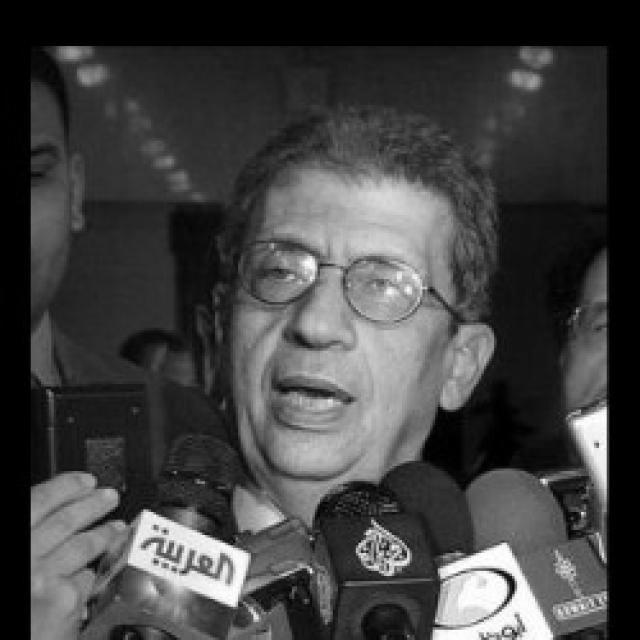real: (226, 158, 452, 486), (244, 246, 430, 315)
